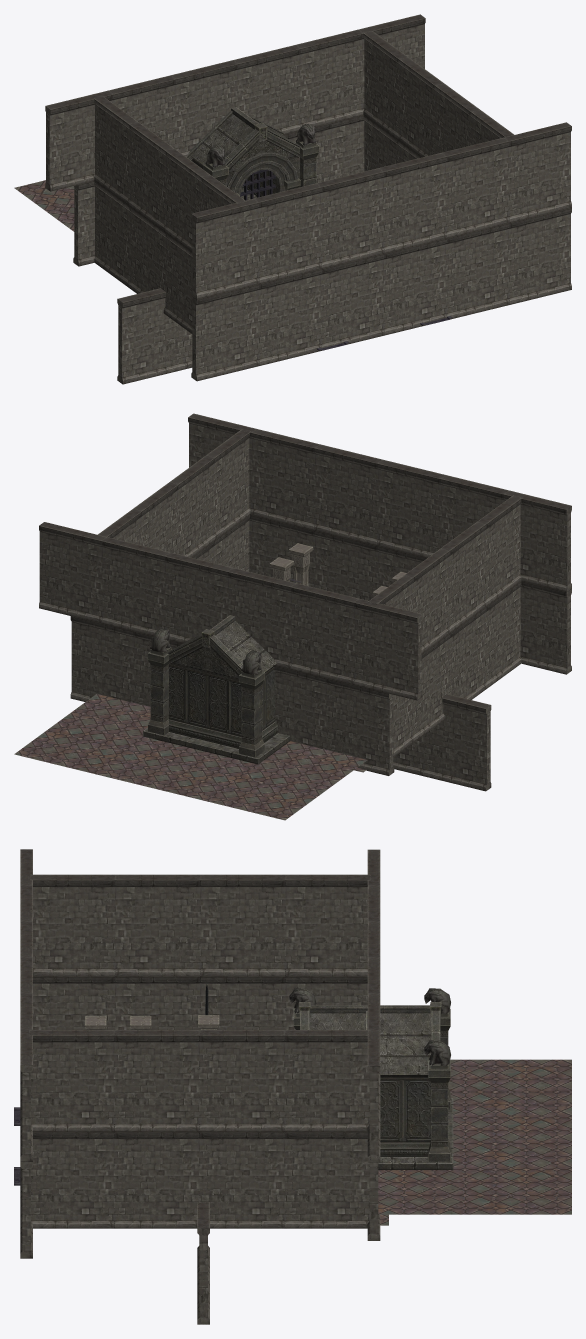
File: bf_home_valanardreadmire.glb
The picture shows the model from 3 angles, top to bottom: view 1: azimuth 30°, elevation 25°; view 2: azimuth 150°, elevation 25°; view 3: azimuth 270°, elevation 25°; orthographic projection. The views are drawn at different scales.
Parts seen in each view (by area): view 1: Wall01_d (14) (×2), Wall01_d (17), Wall01_d (16), Wall01_d (18), Wall01_d (13), Wall01_d (15), Wall01_d (8), Wall01_d (5), Tomb05_c, Wall01_d (6), Wall01_d (10), Wall01_d (3) (+9 smaller); view 2: Plane (1), Tomb05_c, Wall01_d (14) (×2), Wall01_d (6), Wall01_d (5), Wall01_d (16), Wall01_d (8), Wall01_d (7), Wall01_d (17), Wall01_d (11), Wall01_d (1), Wall01_d (4) (+9 smaller); view 3: Plane (1), Wall01_d (3), Wall01_d (10), Wall01_d (11), Wall01_d (1), Wall01_d, Wall01_d (2), Tomb05_c, Wall01_d (12), Wall01_d (9), Wall01_d (13) (×2), Wall01_d (5) (+6 smaller).
Boxes of the visible parts, bbox=[...] form: Wall01_d (14) (×2): bbox=[117, 122, 571, 384]; Wall01_d (17): bbox=[191, 183, 321, 299]; Wall01_d (16): bbox=[317, 153, 446, 268]; Wall01_d (18): bbox=[191, 269, 321, 381]; Wall01_d (13): bbox=[446, 208, 571, 319]; Wall01_d (15): bbox=[321, 238, 446, 350]; Wall01_d (8): bbox=[170, 45, 300, 156]; Wall01_d (5): bbox=[296, 14, 425, 127]; Tomb05_c: bbox=[185, 107, 319, 199]; Wall01_d (6): bbox=[45, 75, 175, 191]; Wall01_d (10): bbox=[93, 96, 173, 232]; Wall01_d (3): bbox=[363, 30, 443, 157]; Plane (1): bbox=[14, 694, 367, 820]; Tomb05_c: bbox=[143, 615, 290, 764]; Wall01_d (14) (×2): bbox=[188, 413, 491, 791]; Wall01_d (6): bbox=[291, 583, 422, 700]; Wall01_d (5): bbox=[39, 522, 169, 636]; Wall01_d (16): bbox=[314, 444, 445, 557]; Wall01_d (8): bbox=[165, 552, 295, 669]; Wall01_d (7): bbox=[274, 666, 394, 775]; Wall01_d (17): bbox=[440, 475, 571, 591]; Wall01_d (11): bbox=[441, 495, 522, 632]; Wall01_d (1): bbox=[169, 429, 250, 557]; Wall01_d (4): bbox=[70, 616, 182, 706]; Plane (1): bbox=[378, 1059, 571, 1214]; Wall01_d (3): bbox=[199, 1030, 370, 1131]; Wall01_d (10): bbox=[200, 874, 370, 976]; Wall01_d (11): bbox=[30, 874, 200, 976]; Wall01_d (1): bbox=[29, 1030, 199, 1131]; Wall01_d: bbox=[31, 1132, 199, 1228]; Wall01_d (2): bbox=[199, 1132, 369, 1228]; Tomb05_c: bbox=[289, 988, 453, 1169]; Wall01_d (12): bbox=[33, 976, 200, 1029]; Wall01_d (9): bbox=[200, 976, 367, 1029]; Wall01_d (13) (×2): bbox=[20, 1162, 209, 1324]; Wall01_d (5): bbox=[367, 993, 380, 1162].
Bounding box in the file's own units: 30.07 × 17.11 × 32.72.
14 materials, 14 textured.
